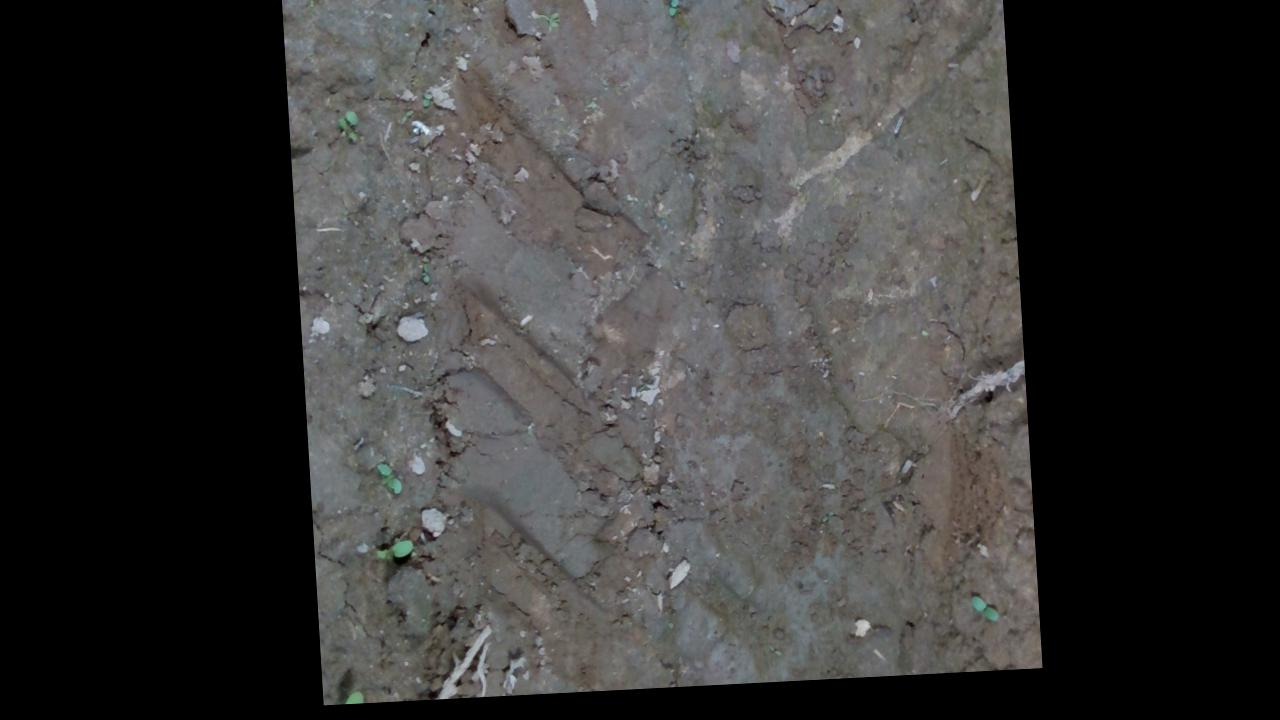weed: (366, 539, 408, 564), (369, 463, 398, 498), (961, 604, 994, 633), (315, 691, 357, 708), (667, 3, 681, 25)
